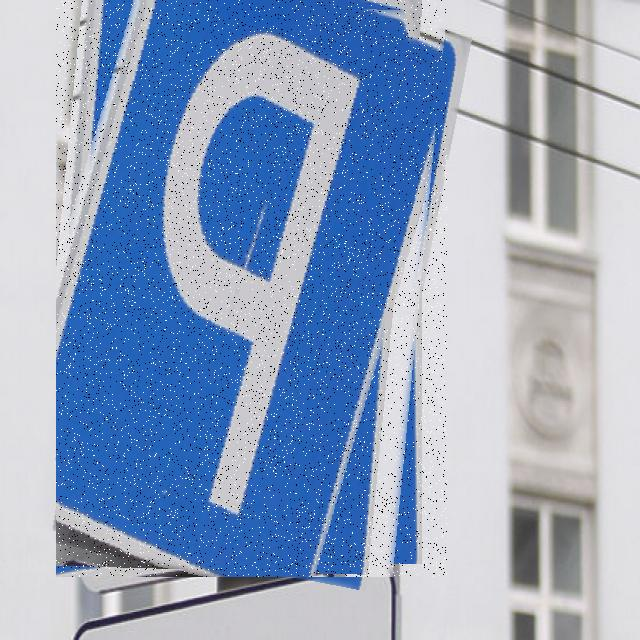parking: (56, 0, 447, 577)
